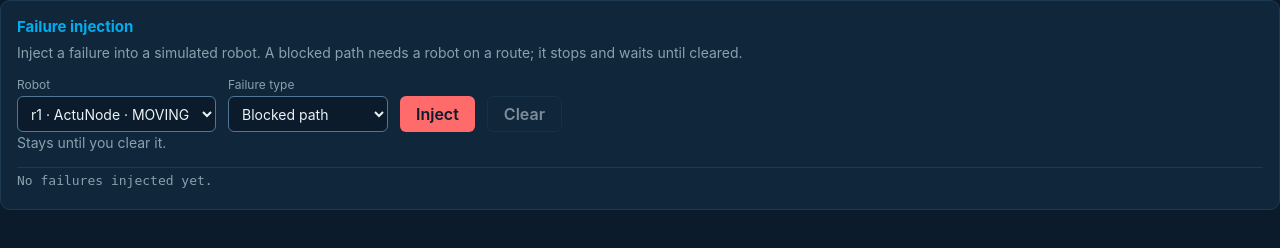
Test case: failure injection › names the identity it reaches and how each failure ends
Select "Blocked path" in the dropdown labelled "Failure type" at (308, 114), box [228, 96, 388, 132]
Expected: the text "Stays until you clear it." is shown, [17, 134, 166, 151]
Select "Low battery" in the dropdown labelled "Failure type" at (308, 114), box [228, 96, 388, 132]
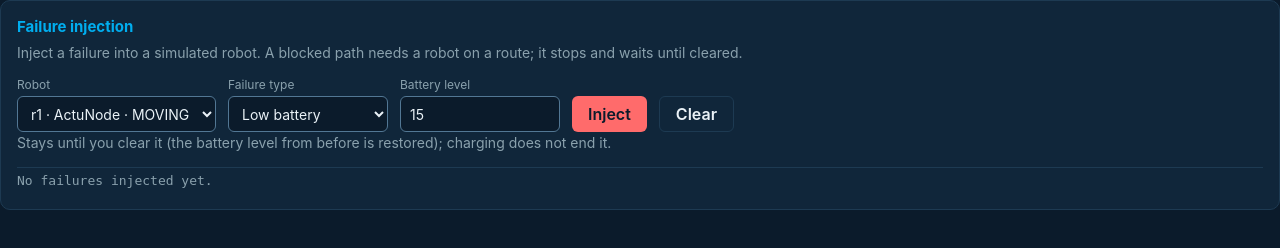
Expected: the text "charging does not end it" is shown, [17, 134, 611, 151]
Select "Disconnect" in the dropdown labelled "Failure type" at (308, 114), box [228, 96, 388, 132]
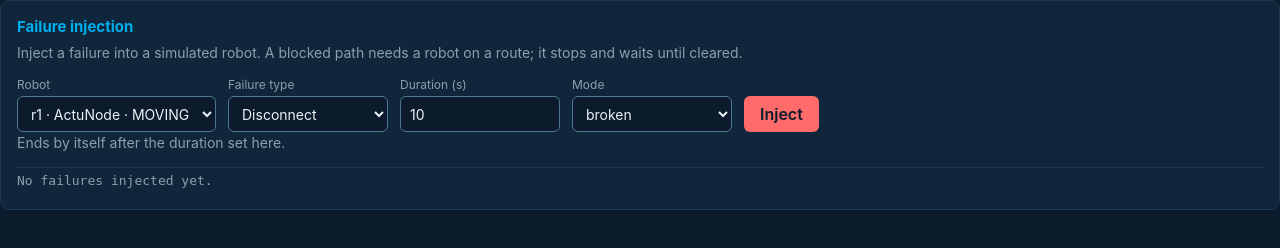
Expected: the text "Ends by itself after the duration set here." is shown, [17, 134, 285, 151]
Select "Unresponsive" in the dropdown labelled "Failure type" at (308, 114), box [228, 96, 388, 132]
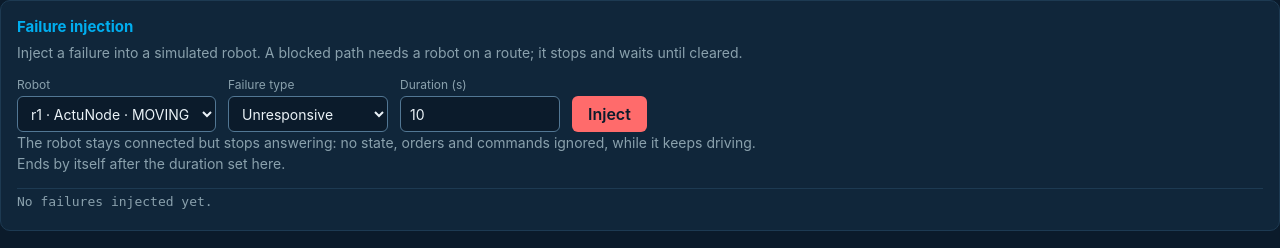
Expected: the text "Ends by itself after the duration set here." is shown, [17, 155, 285, 172]
Select "Invalid payload" in the dropdown labelled "Failure type" at (308, 114), box [228, 96, 388, 132]
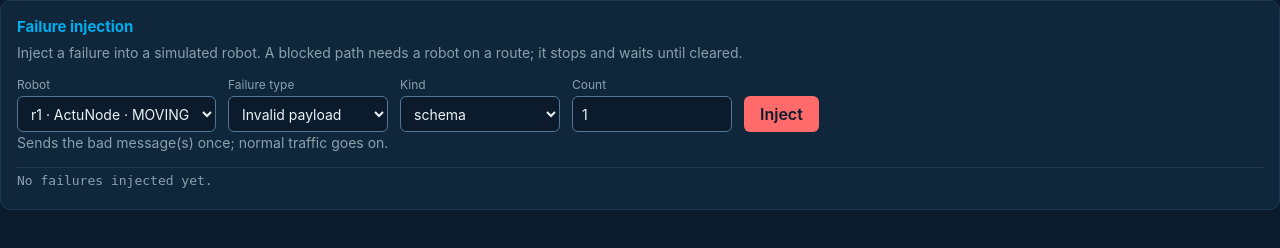
Expected: the text "Sends the bad message(s) once; normal traffic goes on." is shown, [17, 134, 388, 151]
